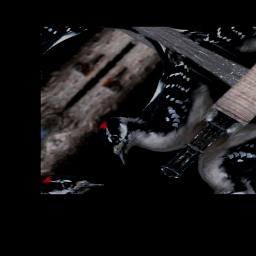Woodpecker: (52, 34, 249, 183)
